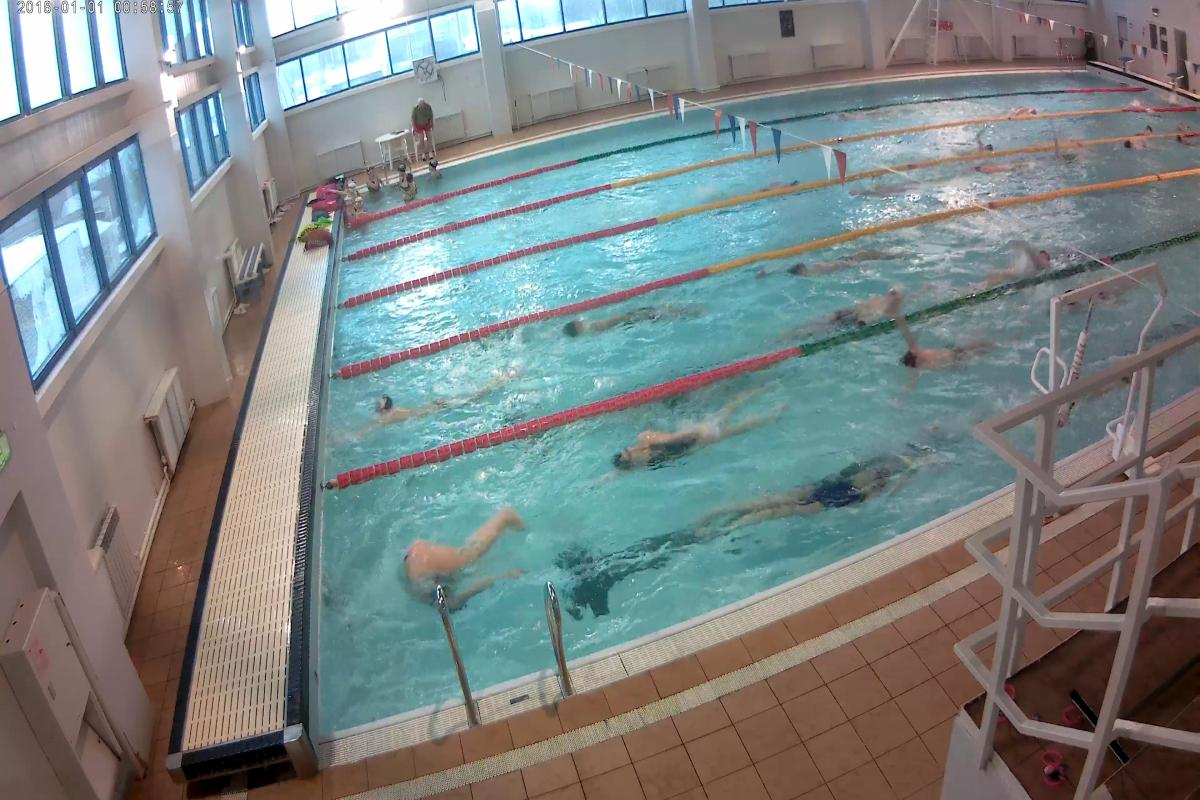swimmer: (721, 461, 911, 532), (377, 512, 517, 607), (604, 397, 774, 468), (367, 383, 505, 428), (763, 248, 924, 280), (550, 299, 714, 327), (882, 339, 980, 385), (819, 288, 918, 328), (949, 250, 1030, 293)
